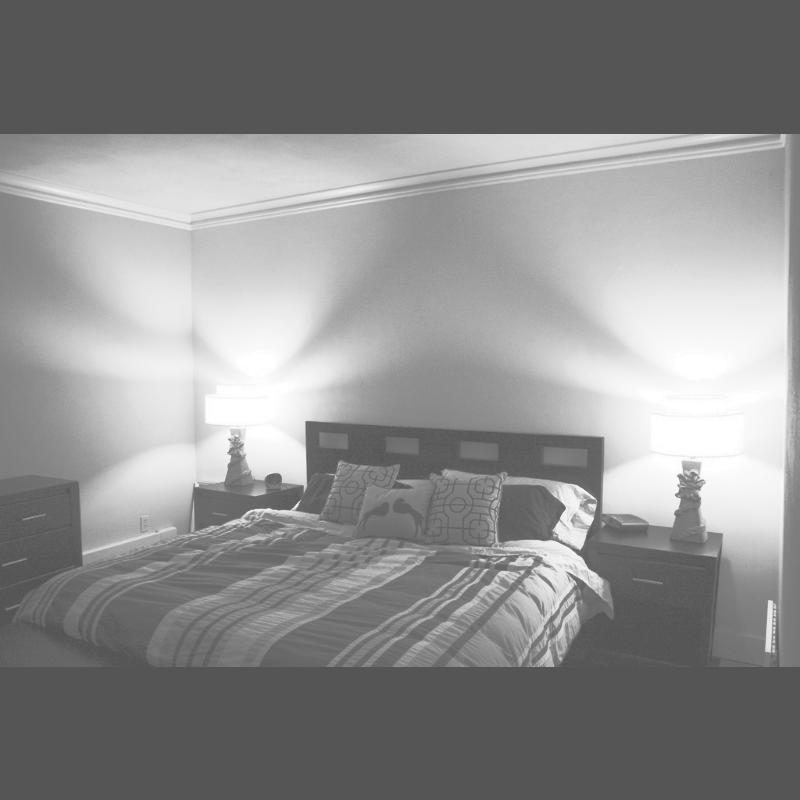pillow: (442, 470, 602, 546), (428, 471, 499, 549), (320, 460, 394, 524), (354, 484, 432, 539)
